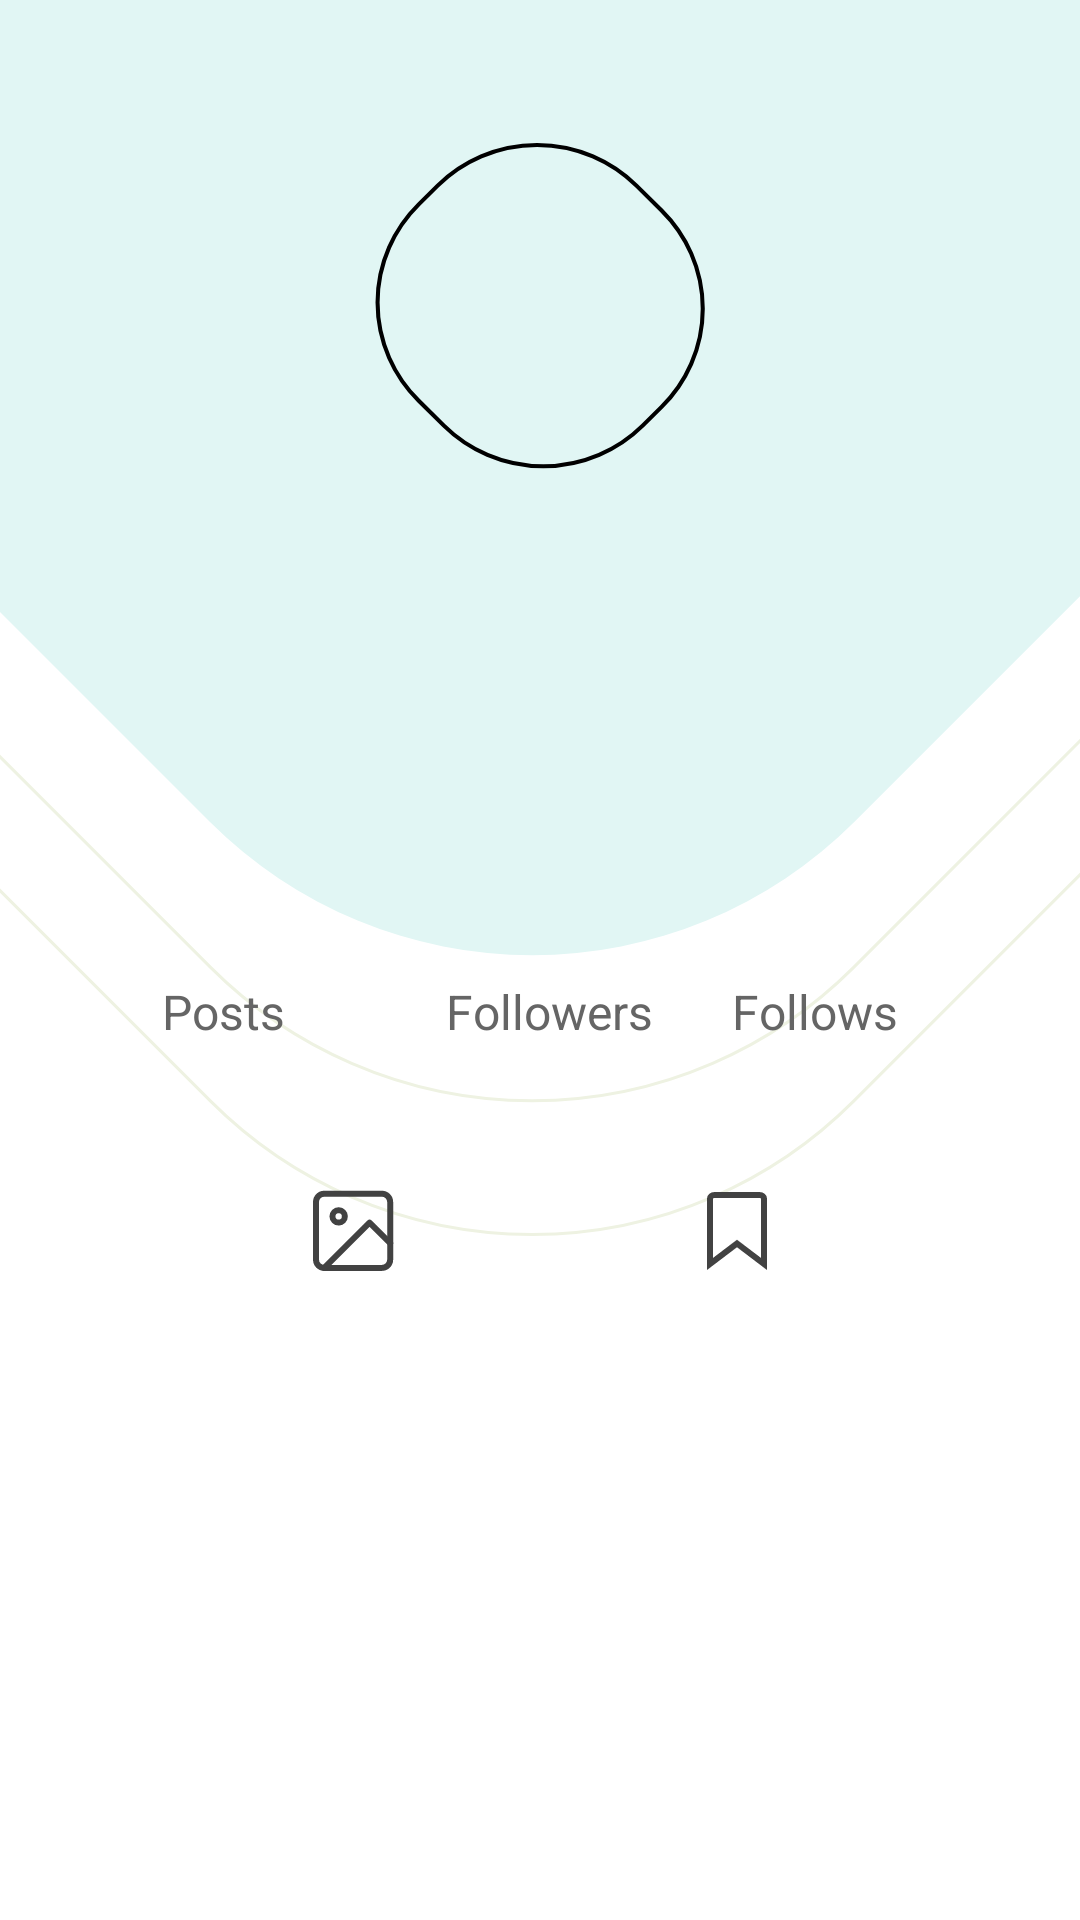

Icons on this 1080 × 1920 Android screen, each with the point to tap as (x=x, y=y):
photos: (x=353, y=1230)
saved: (x=737, y=1231)
